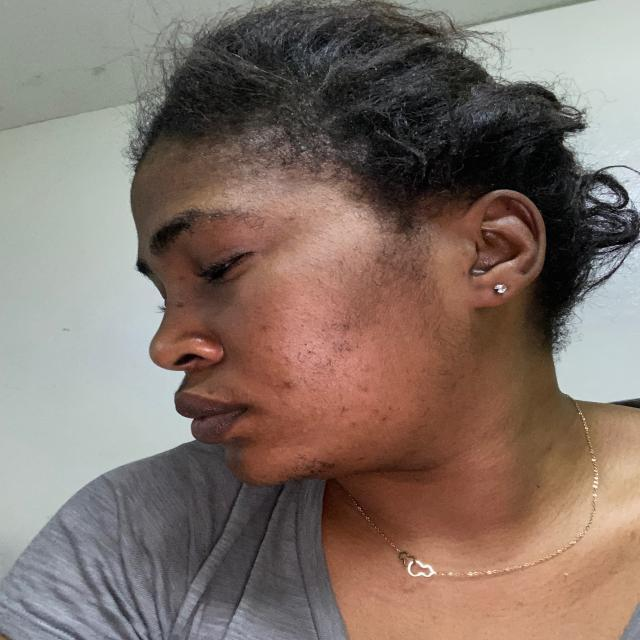Acne: (334, 316, 397, 364), (247, 316, 308, 350), (168, 290, 208, 334), (360, 391, 410, 426), (278, 371, 324, 403), (305, 448, 351, 476)
